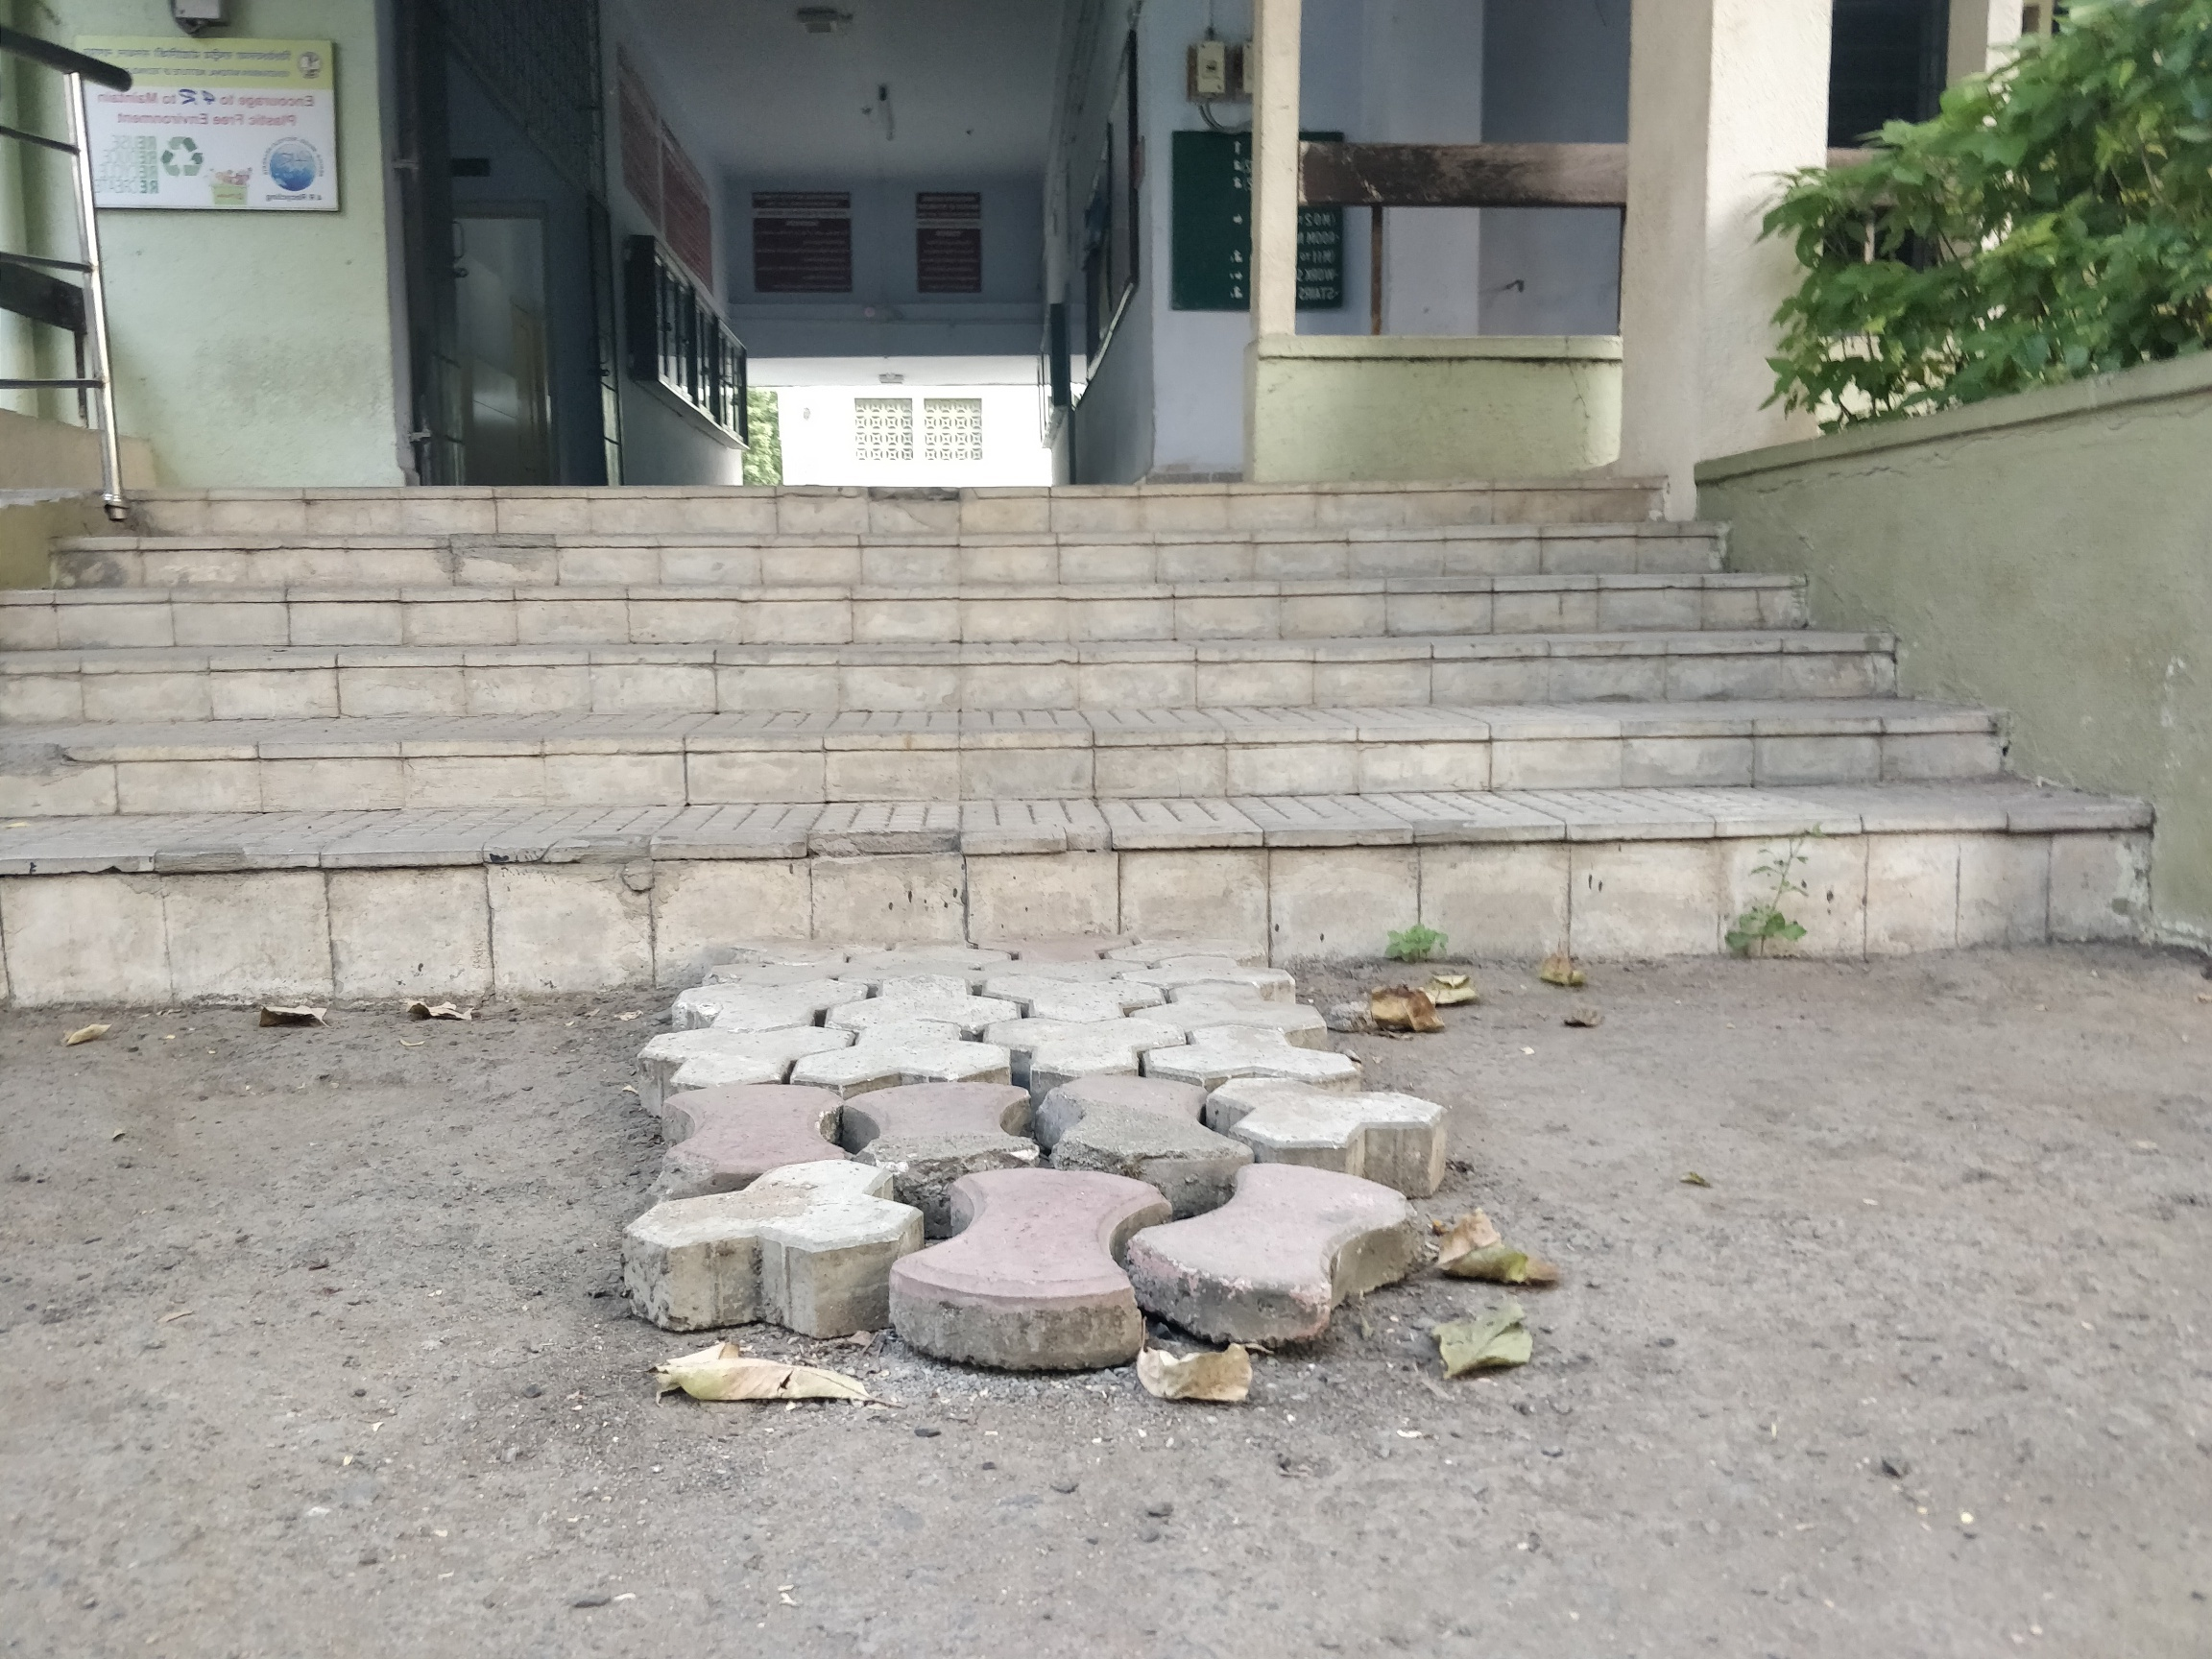stairs_up: (12, 450, 2172, 997)
